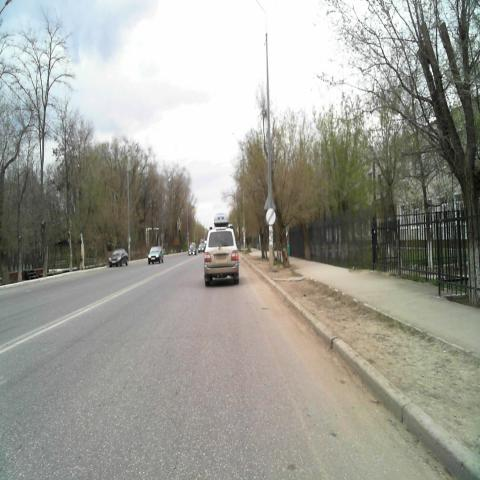3_31: (266, 207, 276, 225)
